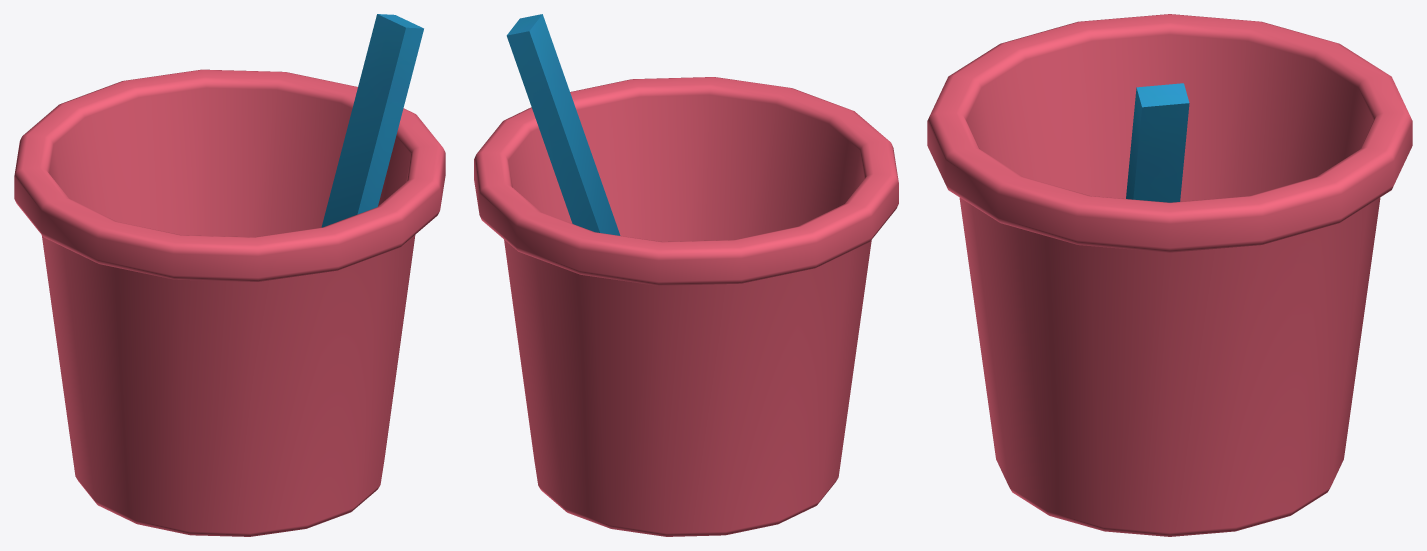
Rendered from BucketwSpoon.fbx.
The picture shows the model from 3 angles, left to right: view 1: azimuth 30°, elevation 25°; view 2: azimuth 150°, elevation 25°; view 3: azimuth 270°, elevation 25°; orthographic projection. The views are drawn at different scales.
Visible parts, largest first — view 1: BucketwSpoon; view 2: BucketwSpoon; view 3: BucketwSpoon.
Part boxes in pixels (box(x1,y1,x2,y2)): BucketwSpoon: box(14, 14, 445, 536); BucketwSpoon: box(474, 14, 898, 536); BucketwSpoon: box(927, 14, 1412, 536).
Size of the model in its own units: 53.02 by 56.31 by 53.02.
1 material, 1 textured.
